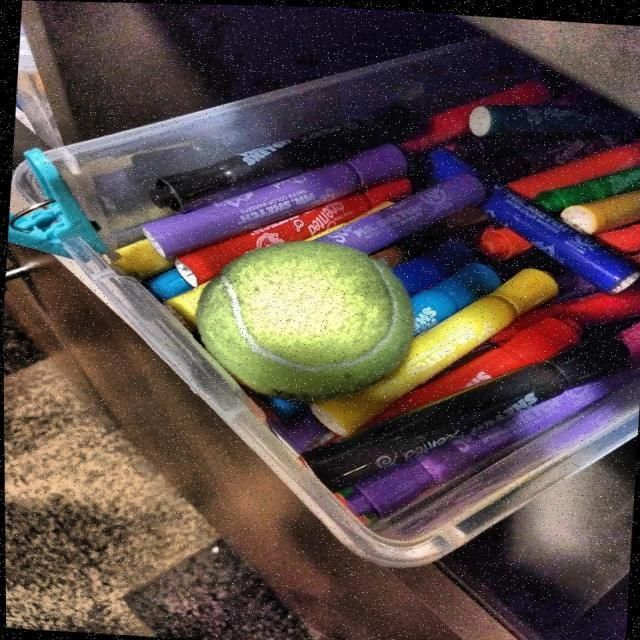tennis-ball: (188, 244, 431, 406)
